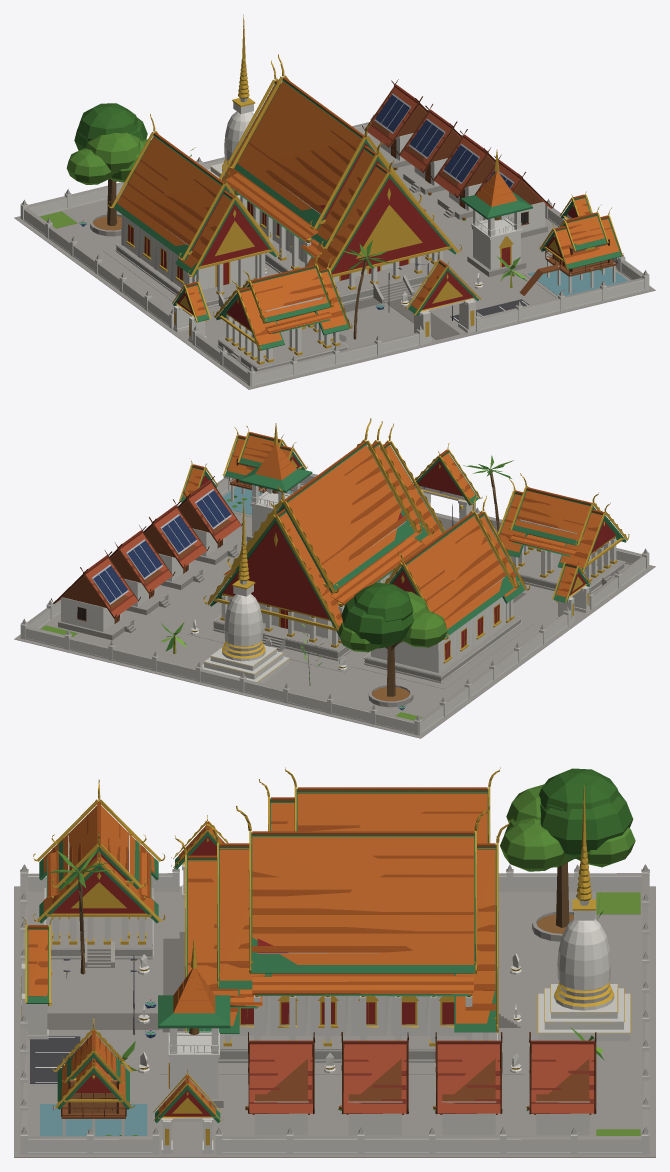
The model's file is temple_3.glb.
The picture shows the model from 3 angles, top to bottom: view 1: azimuth 30°, elevation 25°; view 2: azimuth 150°, elevation 25°; view 3: azimuth 270°, elevation 25°; orthographic projection. The views are drawn at different scales.
Parts seen in each view (by area): view 1: body; view 2: body; view 3: body.
Part boxes in pixels (box(x1,y1,x2,y2)): body: box(14, 14, 655, 389); body: box(14, 418, 655, 738); body: box(14, 767, 655, 1157).
Bounding box in the file's own units: 47.9 × 19.8 × 47.9.
